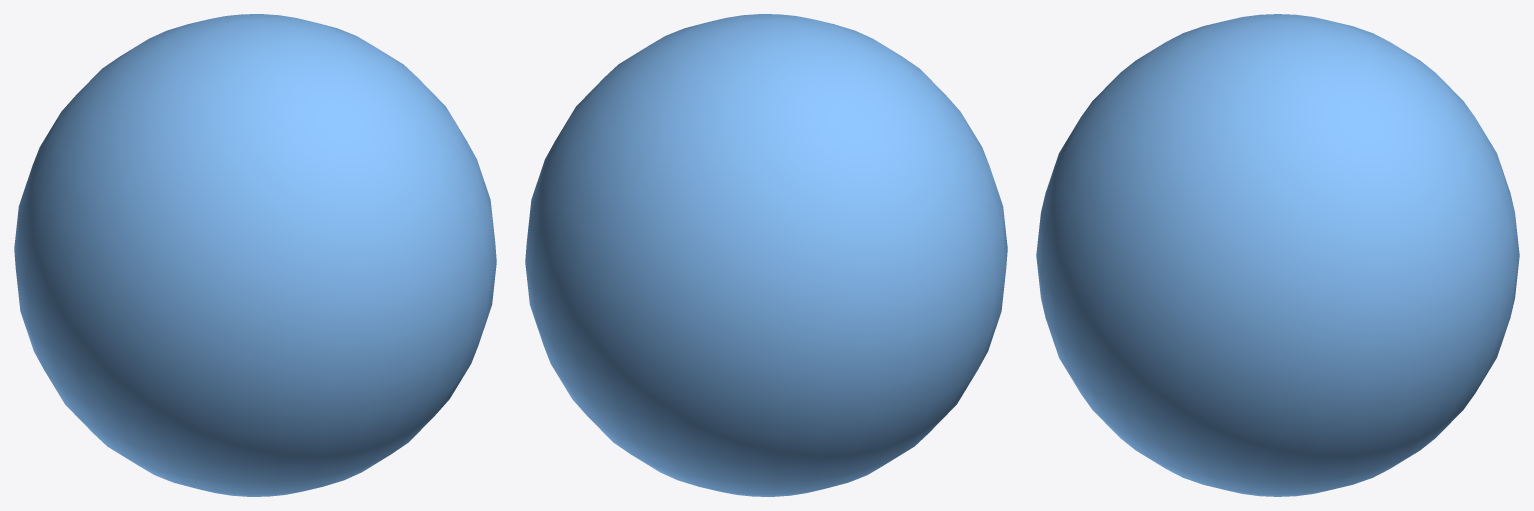
The model's file is H_Hidrogeno.glb.
3 views of the same model, side by side, from view 1: azimuth 30°, elevation 25°; view 2: azimuth 150°, elevation 25°; view 3: azimuth 270°, elevation 25° (orthographic).
Visible parts, largest first — view 1: H_Nube_Electronica; view 2: H_Nube_Electronica; view 3: H_Nube_Electronica.
Boxes of the visible parts, left/top/right/bottom form: H_Nube_Electronica: left=14, top=14, right=496, bottom=496; H_Nube_Electronica: left=525, top=14, right=1007, bottom=496; H_Nube_Electronica: left=1036, top=14, right=1519, bottom=496.
Size of the model in its own units: 0.124 by 0.124 by 0.124.
